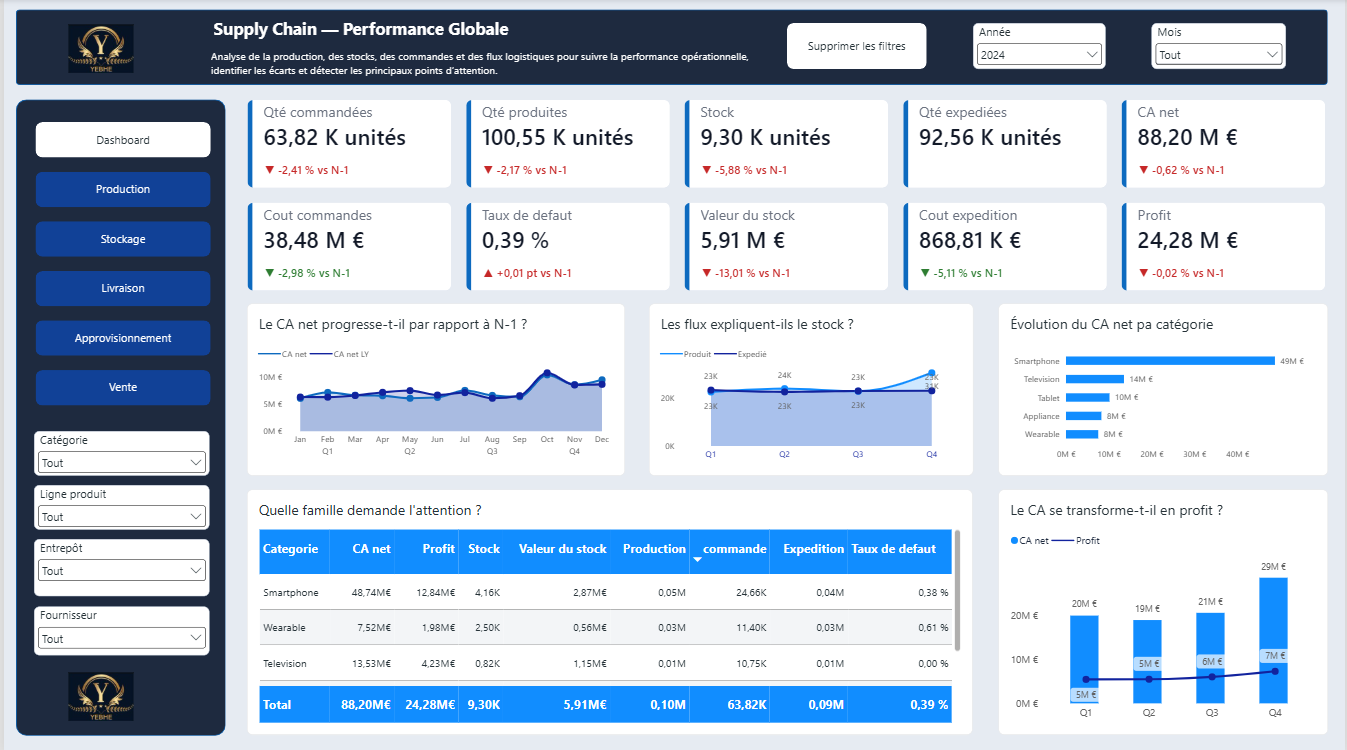

Layout of this report page (visuals, bound fields, positions):
{"tool":"powerbi","page":{"name":"Dashboard","canvas":[1920,1080],"ordinal":0},"visuals":[{"type":"shape","box":[18,143.7,300.3,911.2],"z":0},{"type":"cardVisual","fields":{"Data":["_Mesures.Qté commandées Texte","_Mesures.Qté produites Texte","_Mesures.Stock Texte","_Mesures.Qté expediées Texte","_Mesures.CA net Texte","_Mesures.Cout commandes Texte","_Mesures.Taux de defaut","_Mesures.Valeur du stock Texte","_Mesures.Cout expedition Texte","_Mesures.Profit Texte"]},"box":[349.1,143.7,1547,275.8],"z":1000},{"type":"shape","box":[18,15.4,1878.9,108],"z":2000},{"type":"slicer","fields":{"Values":["dim_date.year Hierarchy.month_name"]},"box":[1644.4,34.2,192.7,65.9],"z":3000},{"type":"lineChart","title":"Le CA net progresse-t-il par rapport à N-1 ?","fields":{"Category":["dim_date.year Hierarchy.quarter_name","dim_date.year Hierarchy.month_name"],"Y":["_Mesures.CA net","_Mesures.CA net LY"]},"box":[349.1,436.4,541.6,246.4],"z":4000},{"type":"lineChart","title":"Les flux expliquent-ils le stock ?","fields":{"Category":["dim_date.year Hierarchy.quarter_name","dim_date.year Hierarchy.month_name"],"Y":["_Mesures.Qté produites","_Mesures.Qté expediées"]},"box":[924.1,436.4,464.6,246.4],"z":5000},{"type":"clusteredBarChart","title":"Évolution du CA net pa catégorie ","fields":{"Category":["dim_product.category"],"Y":["_Mesures.CA net"]},"box":[1424.6,436.4,472.3,246.4],"z":6000},{"type":"tableEx","title":"Quelle famille demande l''attention ?","fields":{"Values":["dim_product.category","_Mesures.CA net","_Mesures.Profit","_Mesures.Stock","_Mesures.Valeur du stock","_Mesures.Qté produites","_Mesures.Qté commandées","_Mesures.Qté expediées","_Mesures.Taux de defaut"]},"box":[349.1,703.3,1039.4,351.3],"z":7000},{"type":"lineStackedColumnComboChart","title":"Le CA se transforme-t-il en profit ?","fields":{"Category":["dim_date.year Hierarchy.quarter_name","dim_date.year Hierarchy.month_name"],"Y":["_Mesures.CA net"],"Y2":["_Mesures.Profit"]},"box":[1424.6,703.3,472.3,351.7],"z":8000},{"type":"slicer","fields":{"Values":["dim_date.year Hierarchy.year"]},"box":[1388.1,34.2,190.3,65.9],"z":9000},{"type":"textbox","box":[207.9,25.7,605.8,53.9],"z":10000},{"type":"textbox","box":[297,70,824,48.8],"z":11000},{"type":"image","box":[71.9,35.9,136,69.3],"z":12000},{"type":"image","box":[71.9,965.1,136,69.3],"z":13000},{"type":"slicer","fields":{"Values":["dim_product.category"]},"box":[42.4,618.2,251.5,64.2],"z":14000},{"type":"slicer","fields":{"Values":["dim_product.product_line"]},"box":[42.4,696.1,251.5,64.2],"z":15000},{"type":"slicer","fields":{"Values":["dim_facility.facility_name"]},"box":[42.4,774.1,251.5,81.8],"z":16000},{"type":"slicer","fields":{"Values":["dim_supplier.supplier_name"]},"box":[42.4,869.7,251.5,69.7],"z":17000},{"type":"actionButton","box":[1122,34,200,66],"z":18000},{"type":"pageNavigator","box":[45.1,176.2,251.4,406.1],"z":19000}]}

Visuals, with their boxes in screenshot pixels (x1, y1, x2, y2), scaled from the page's 1920x1080 canvas onto the 1347x750 screenshot:
shape: 13, 100, 223, 733
cardVisual - _Mesures.Qté commandées Texte x _Mesures.Qté produites Texte: 245, 100, 1330, 291
shape: 13, 11, 1331, 86
slicer - dim_date.year Hierarchy.month_name: 1154, 24, 1289, 70
"Le CA net progresse-t-il par rapport à N-1 ?" lineChart: 245, 303, 625, 474
"Les flux expliquent-ils le stock ?" lineChart: 648, 303, 974, 474
"Évolution du CA net pa catégorie " clusteredBarChart: 999, 303, 1331, 474
"Quelle famille demande l''attention ?" tableEx: 245, 488, 974, 732
"Le CA se transforme-t-il en profit ?" lineStackedColumnComboChart: 999, 488, 1331, 733
slicer - dim_date.year Hierarchy.year: 974, 24, 1107, 70
textbox: 146, 18, 571, 55
textbox: 208, 49, 786, 82
image: 50, 25, 146, 73
image: 50, 670, 146, 718
slicer - dim_product.category: 30, 429, 206, 474
slicer - dim_product.product_line: 30, 483, 206, 528
slicer - dim_facility.facility_name: 30, 538, 206, 594
slicer - dim_supplier.supplier_name: 30, 604, 206, 652
actionButton: 787, 24, 927, 69
pageNavigator: 32, 122, 208, 404
